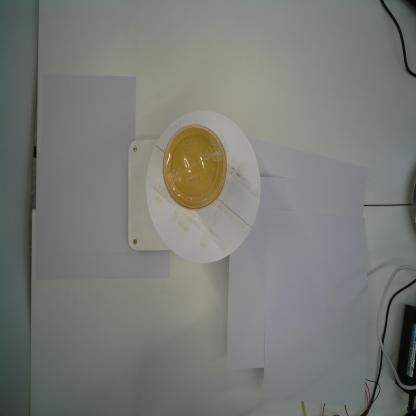Instant Drink: (162, 123, 227, 211)
